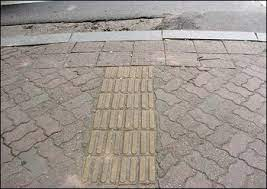guide_blocks: (89, 67, 156, 185), (33, 42, 257, 68)
